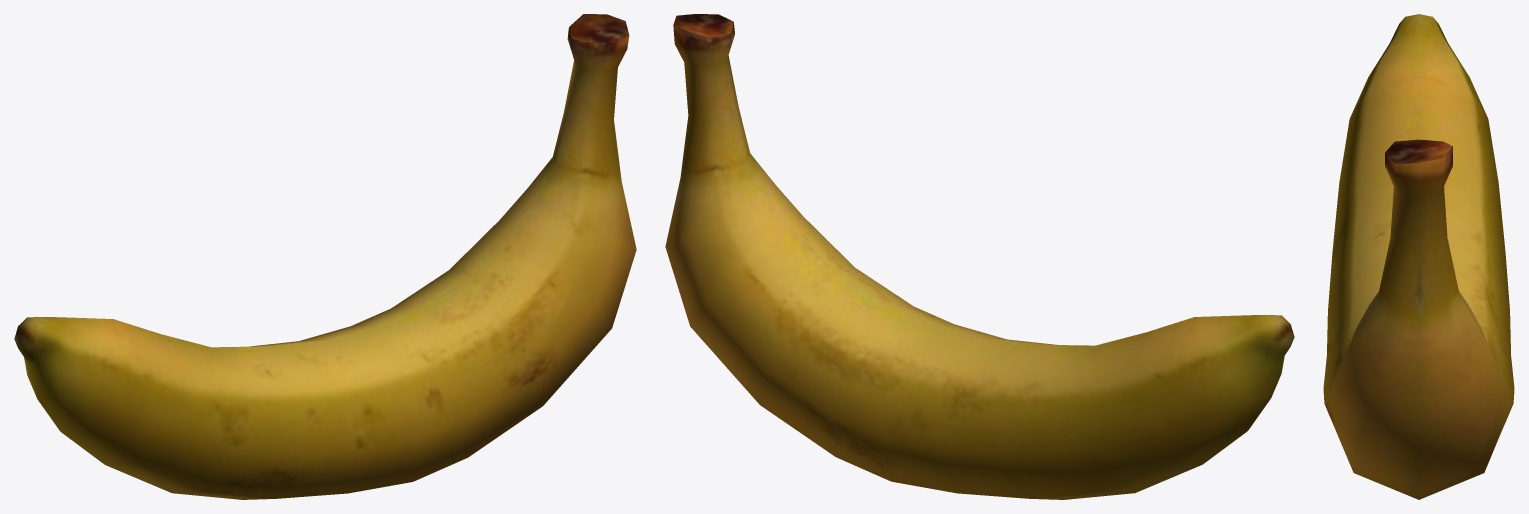
The model's file is Food_Banana.glb.
The picture shows the model from 3 angles, left to right: view 1: azimuth 30°, elevation 25°; view 2: azimuth 150°, elevation 25°; view 3: azimuth 270°, elevation 25°; orthographic projection. The views are drawn at different scales.
Parts seen in each view (by area): view 1: Food_Banana; view 2: Food_Banana; view 3: Food_Banana.
Boxes of the visible parts, x1,y1,x2,y2 form: Food_Banana: [14, 14, 636, 499]; Food_Banana: [665, 14, 1294, 499]; Food_Banana: [1323, 14, 1514, 499].
Size of the model in its own units: 0.32 by 0.2028 by 0.0788.
Materials: 1 (1 with a texture image).
